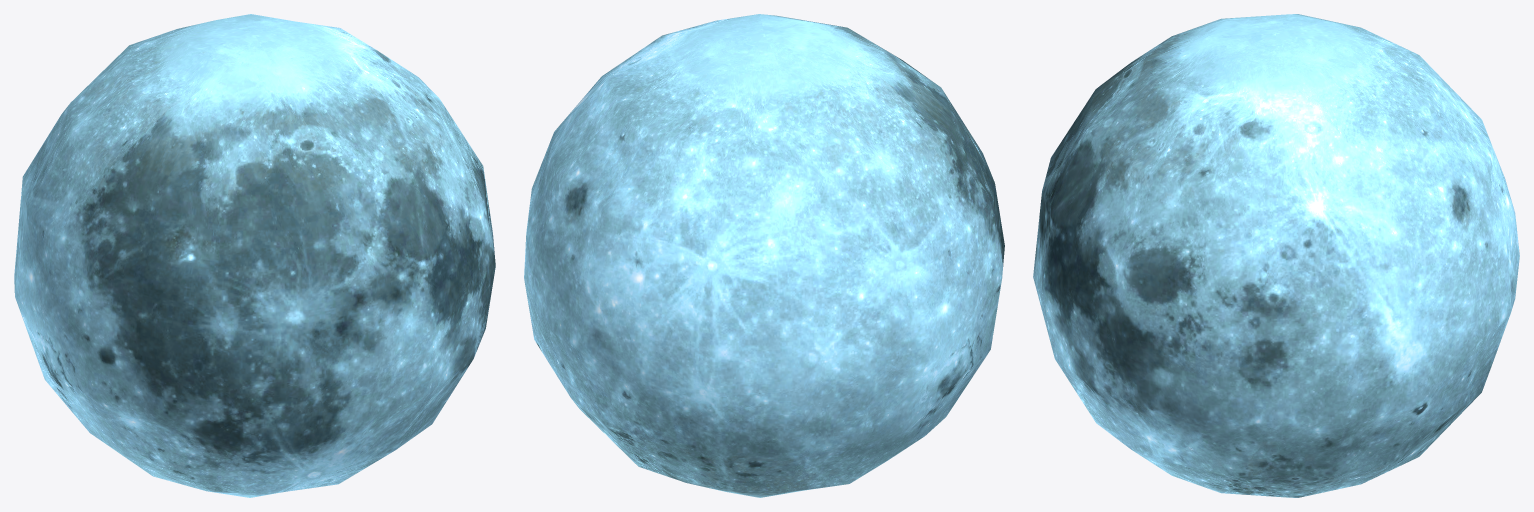
Rendered from SM_Moon.gltf.
3 views of the same model, side by side, from view 1: azimuth 30°, elevation 25°; view 2: azimuth 150°, elevation 25°; view 3: azimuth 270°, elevation 25° (orthographic).
Visible parts, largest first — view 1: Mesh; view 2: Mesh; view 3: Mesh.
Boxes of the visible parts, box(x1,y1,x2,y2) form: Mesh: box(14, 14, 495, 497); Mesh: box(524, 14, 1004, 497); Mesh: box(1033, 14, 1519, 497).
Bounding box in the file's own units: 1 × 1.01 × 1.
Materials: 1 (1 with a texture image).
